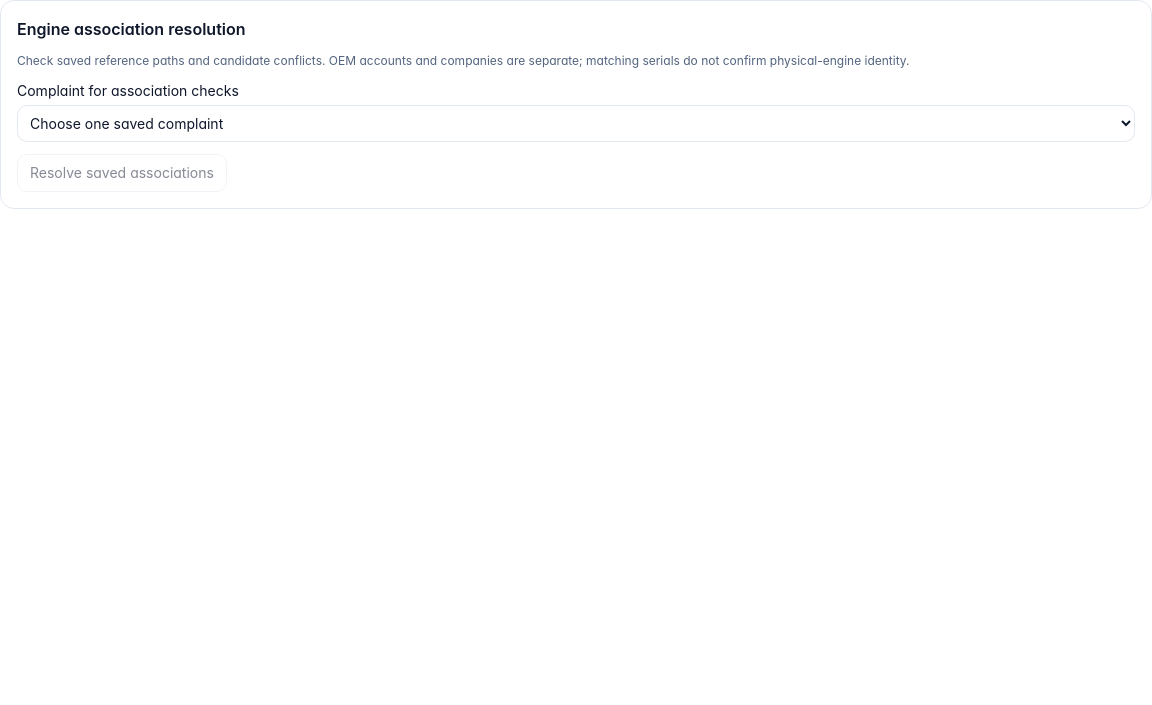
Test: provides explicit safe retry without automatic source reads
Select "t1" in the dropdown labelled "Complaint for association checks" at (576,124), box [17,105,1135,142]
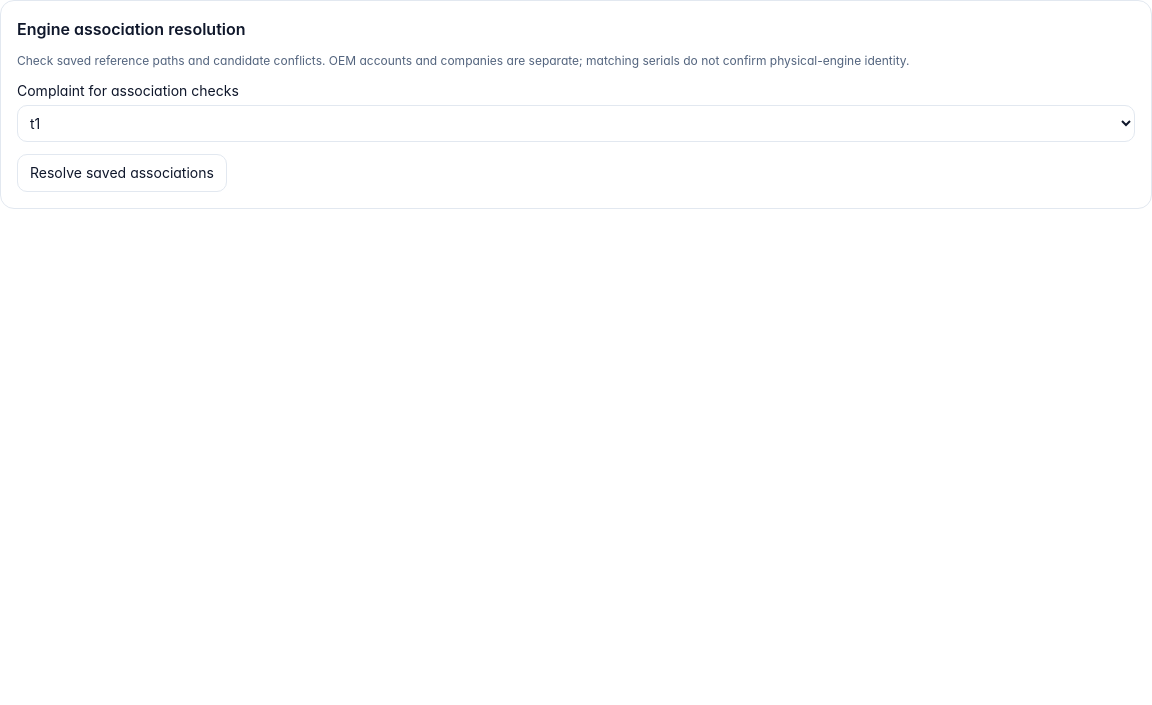
Click the button "Resolve saved associations" at (122,173), box [17,154,227,192]
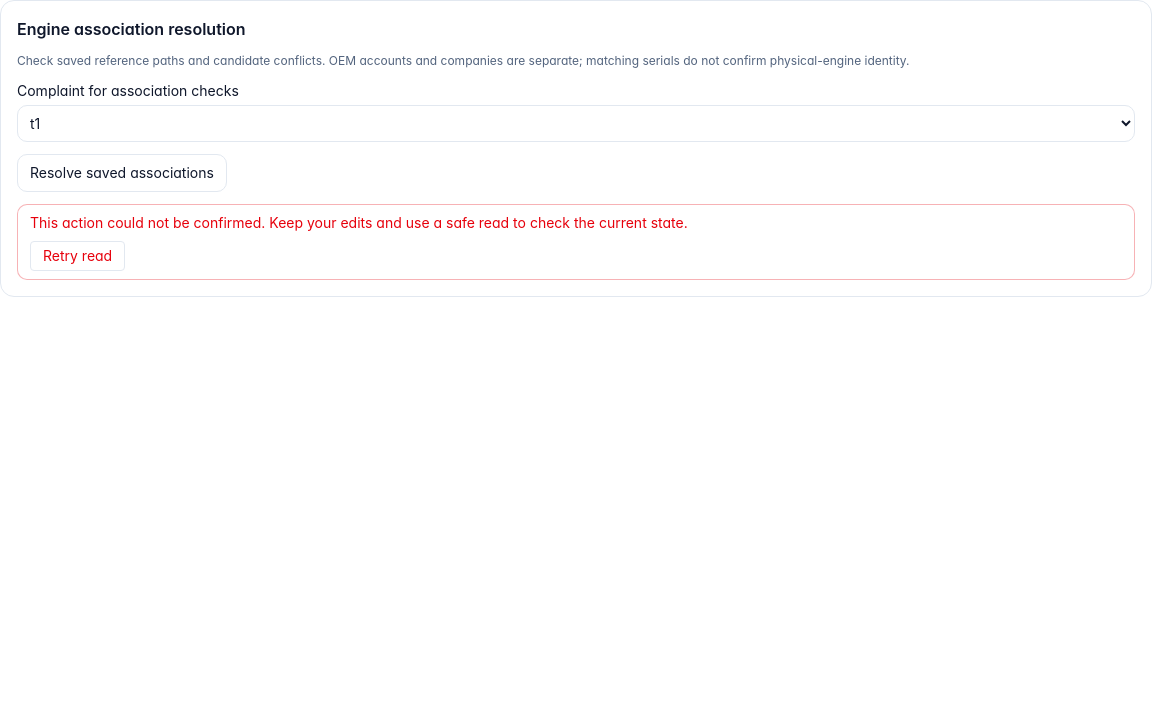
Click the button "Retry read" at (78,256), box [30,241,125,271]
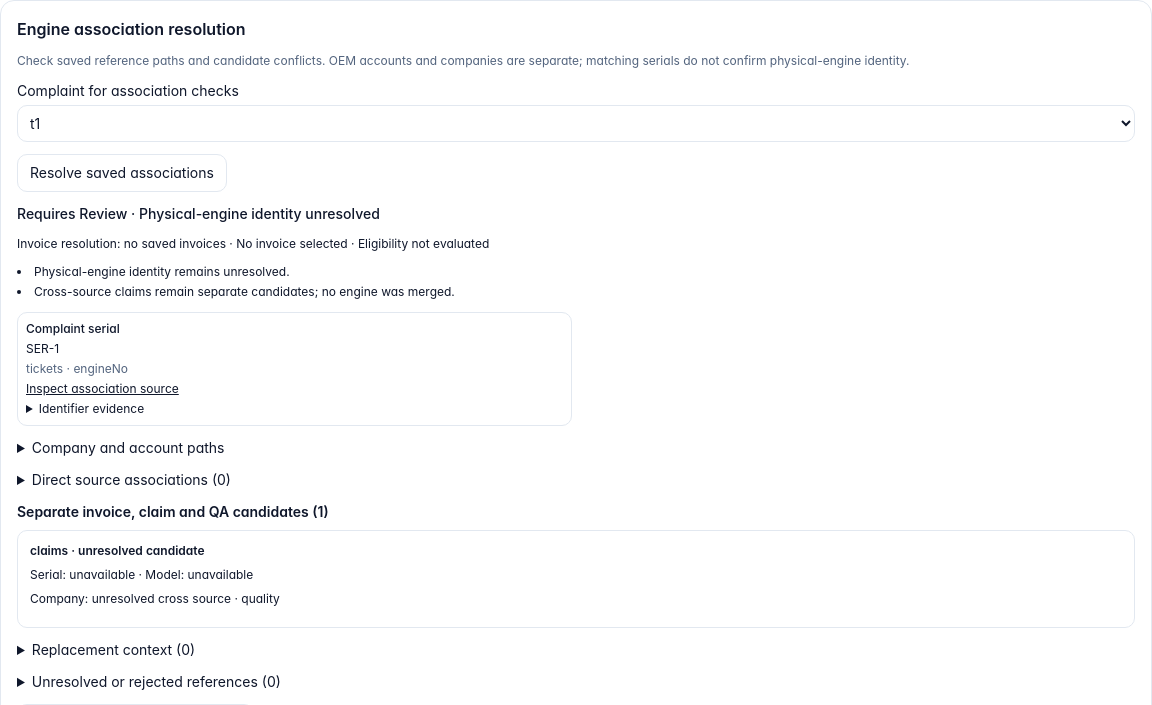
Expected: the text "Requires Review · Physical-engine identity unresolved" is shown, [17,205,380,222]
